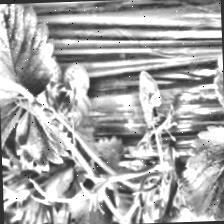Gray Mold: (134, 68, 178, 148)
